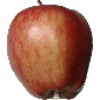apple: (5, 2, 96, 100)
